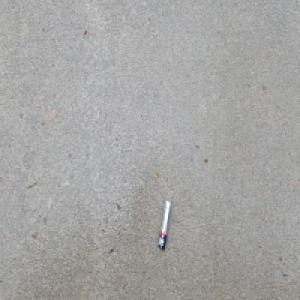Battery: (157, 197, 171, 252)
